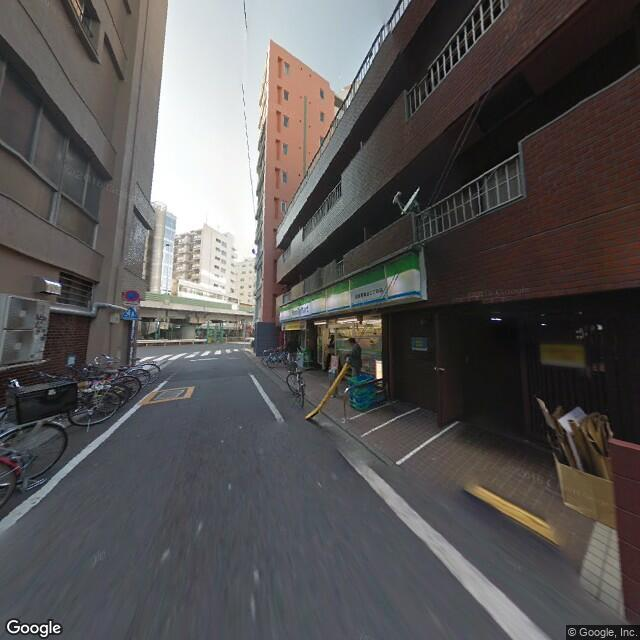family_mart: (278, 245, 425, 325)
